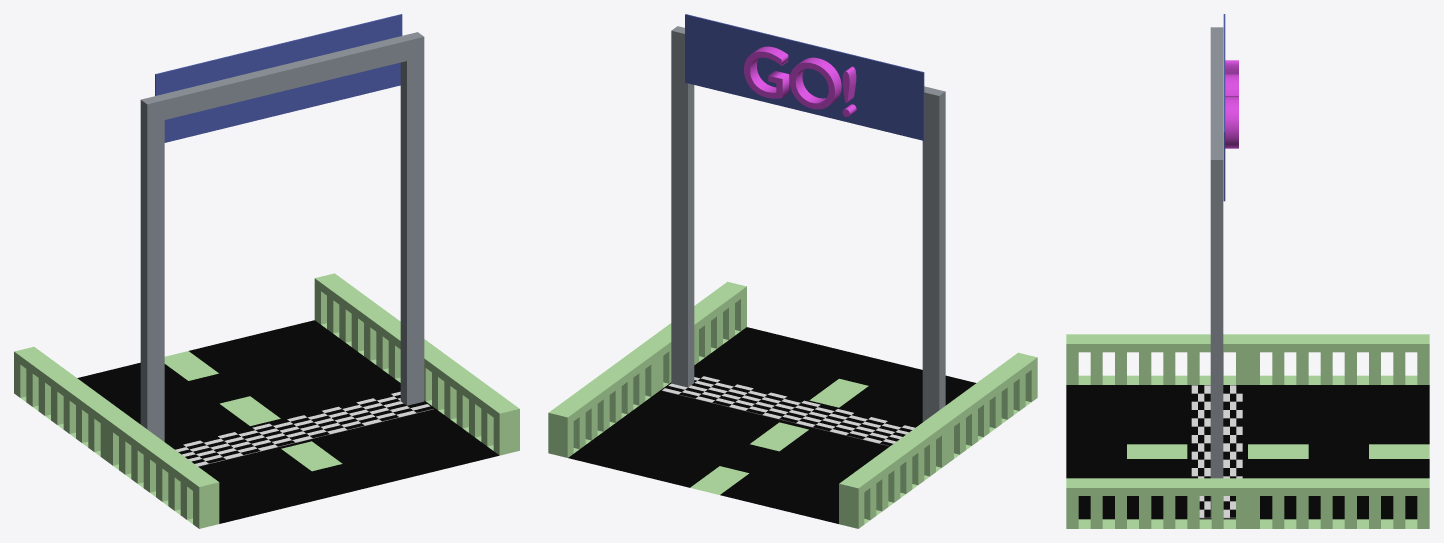
Rendered from Sci-fi_raceTrackStart_Beta1.fbx.
The picture shows the model from 3 angles, left to right: view 1: azimuth 30°, elevation 25°; view 2: azimuth 150°, elevation 25°; view 3: azimuth 270°, elevation 25°; orthographic projection. The views are drawn at different scales.
Visible parts, largest first — view 1: Plane, Cube; view 2: Plane, Cube, GO!; view 3: Plane, Cube, GO!.
Part boxes in pixels (left/top/right/bottom): Plane: left=14, top=273, right=519, bottom=528; Cube: left=140, top=14, right=433, bottom=466; Plane: left=548, top=281, right=1037, bottom=528; Cube: left=662, top=14, right=945, bottom=446; GO!: left=744, top=46, right=856, bottom=116; Plane: left=1066, top=334, right=1429, bottom=528; Cube: left=1191, top=14, right=1242, bottom=518; GO!: left=1225, top=60, right=1238, bottom=148.
Size of the model in its own units: 1000 by 1152 by 1000.
